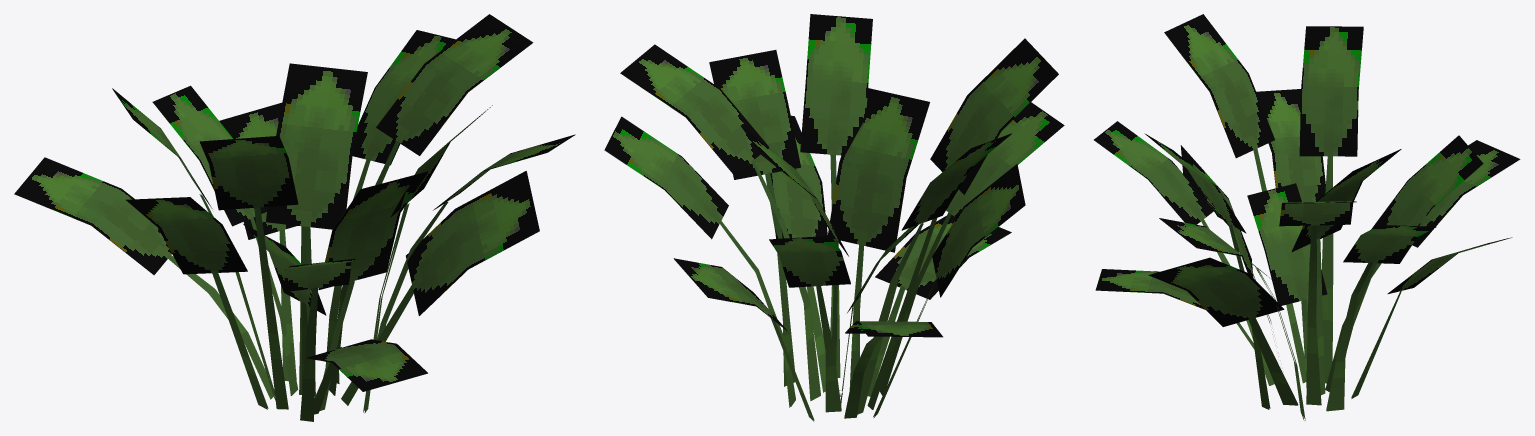
Rendered from plants_area03_grass07.gltf.
The picture shows the model from 3 angles, left to right: view 1: azimuth 30°, elevation 25°; view 2: azimuth 150°, elevation 25°; view 3: azimuth 270°, elevation 25°; orthographic projection. The views are drawn at different scales.
Visible parts, largest first — view 1: plants_area03_grass07; view 2: plants_area03_grass07; view 3: plants_area03_grass07.
Part boxes in pixels (<box>): plants_area03_grass07: <box>14,14,575,421</box>; plants_area03_grass07: <box>604,14,1064,421</box>; plants_area03_grass07: <box>1094,14,1520,420</box>.
Bounding box in the file's own units: 0.9286 × 0.7596 × 0.9365.
Materials: 2 (1 with a texture image).
